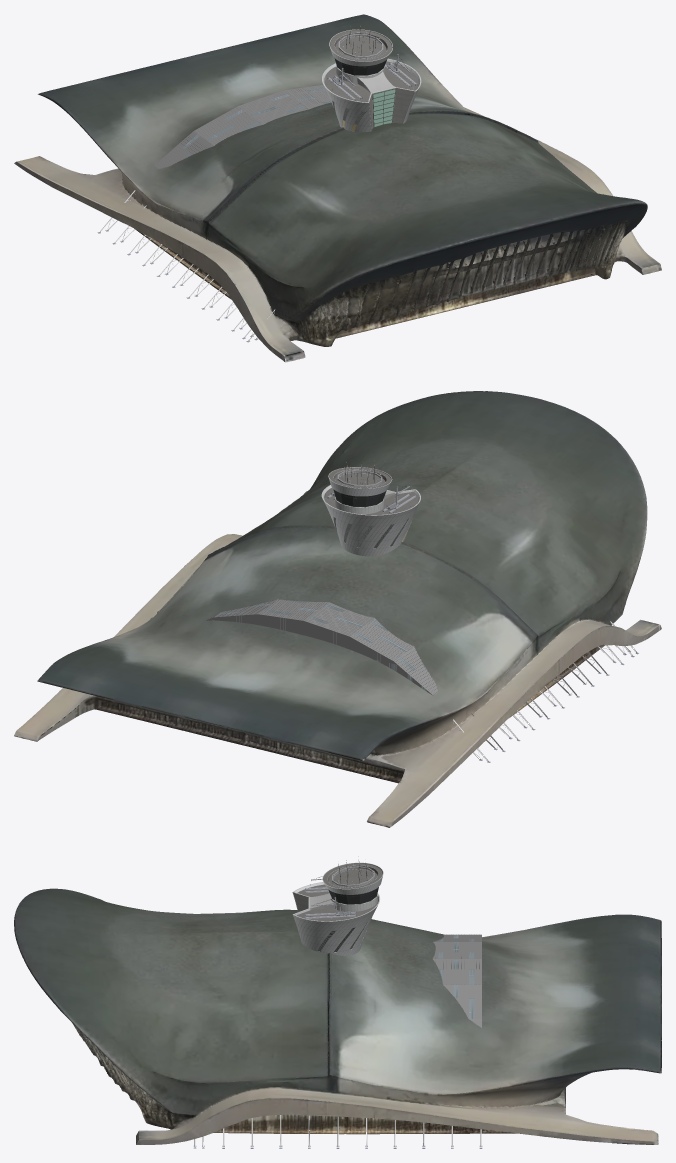
The model's file is air.glb.
3 views of the same model, one above another, from view 1: azimuth 30°, elevation 25°; view 2: azimuth 150°, elevation 25°; view 3: azimuth 270°, elevation 25° (orthographic). The views are drawn at different scales.
Visible parts, largest first — view 1: term, tower, hangar; view 2: term, hangar, tower; view 3: term, tower, hangar.
Boxes of the visible parts, <box> form: term: <box>14,14,661,362</box>; tower: <box>322,25,421,132</box>; hangar: <box>97,84,331,342</box>; term: <box>14,391,661,827</box>; hangar: <box>205,599,638,762</box>; tower: <box>321,462,420,556</box>; term: <box>14,888,661,1144</box>; tower: <box>292,856,383,955</box>; hangar: <box>193,934,482,1148</box>.
Size of the model in its own units: 114 by 56.96 by 170.
Materials: 6 (4 with a texture image).
